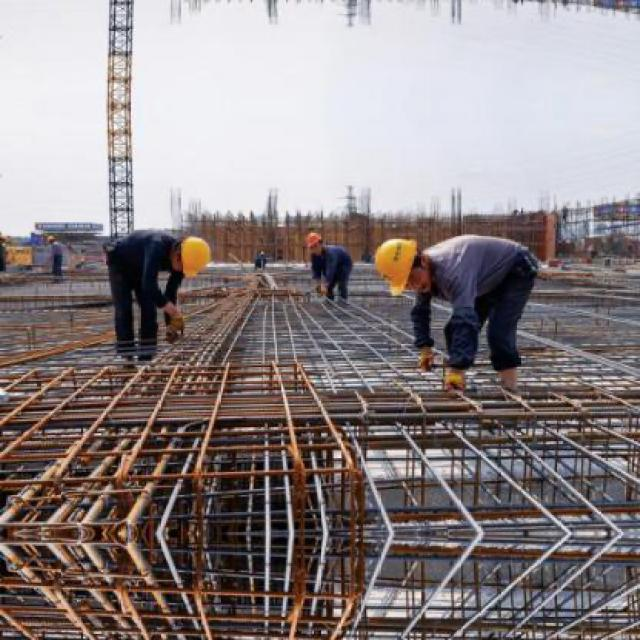helmet: (371, 236, 431, 296), (175, 231, 214, 278), (302, 230, 326, 258)
